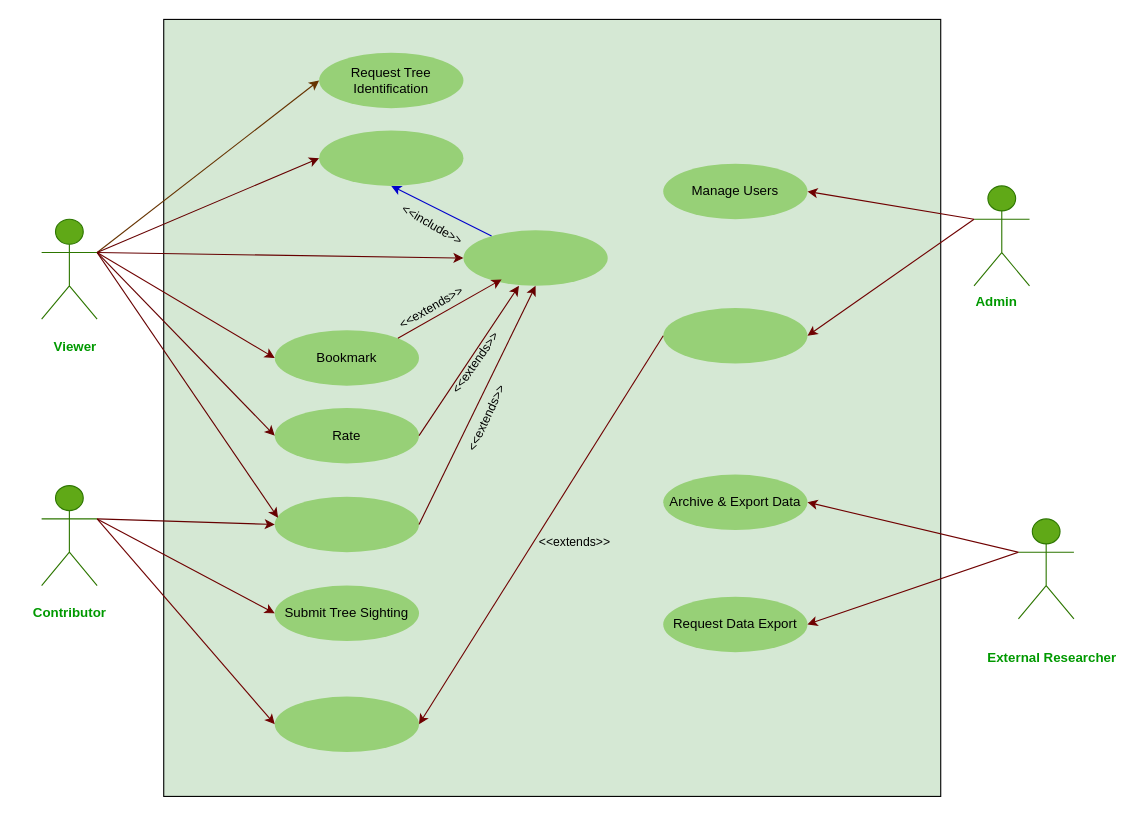
Some shapes in this 1148 by 816 pixel diagram are drawn without their labels. Each missing label, with the box of its shape:
Browse/Search Trees: (319, 130, 463, 185)
Comment: (274, 496, 418, 552)
Content Approval: (663, 307, 807, 363)
Create/Manage Posts: (274, 696, 418, 751)
View Tree Profile: (463, 230, 607, 285)
